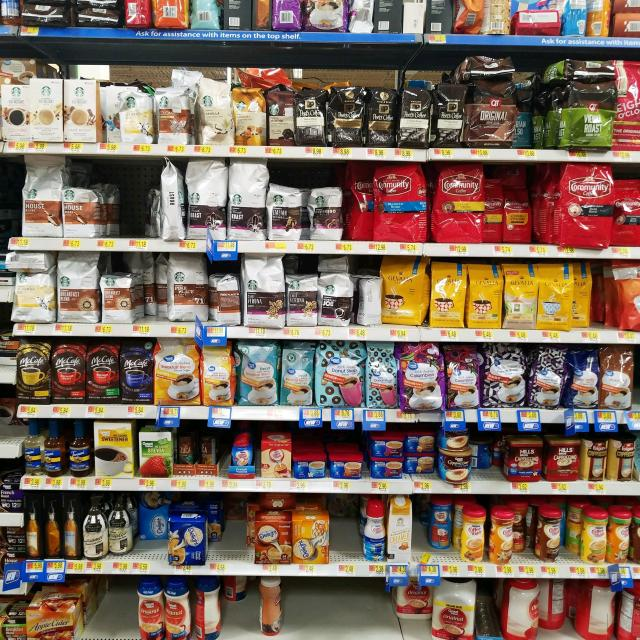void: (104, 158, 158, 256), (79, 575, 131, 639), (582, 262, 621, 346), (351, 575, 392, 640), (136, 252, 166, 335), (319, 570, 350, 640), (332, 494, 359, 574), (225, 498, 250, 577), (223, 577, 253, 640), (289, 577, 318, 640)
